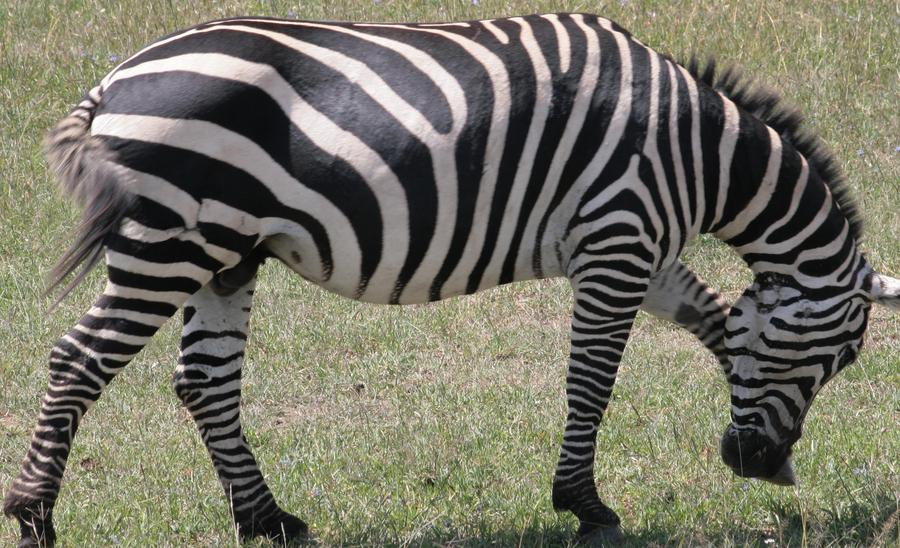zebra_plains: (119, 2, 653, 279)
